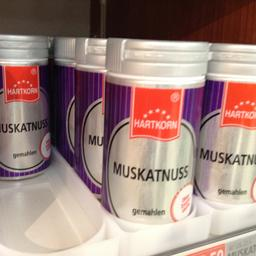spices: (98, 36, 210, 220), (0, 34, 51, 180)
